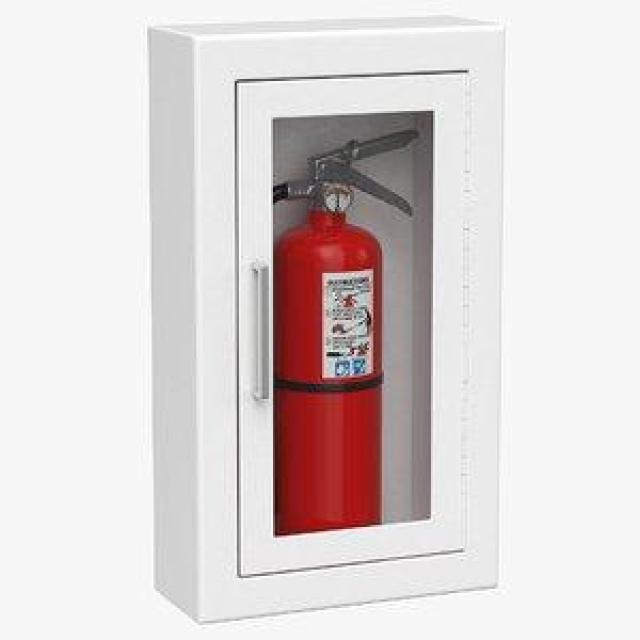fire_extinguisher: (210, 121, 421, 574)
